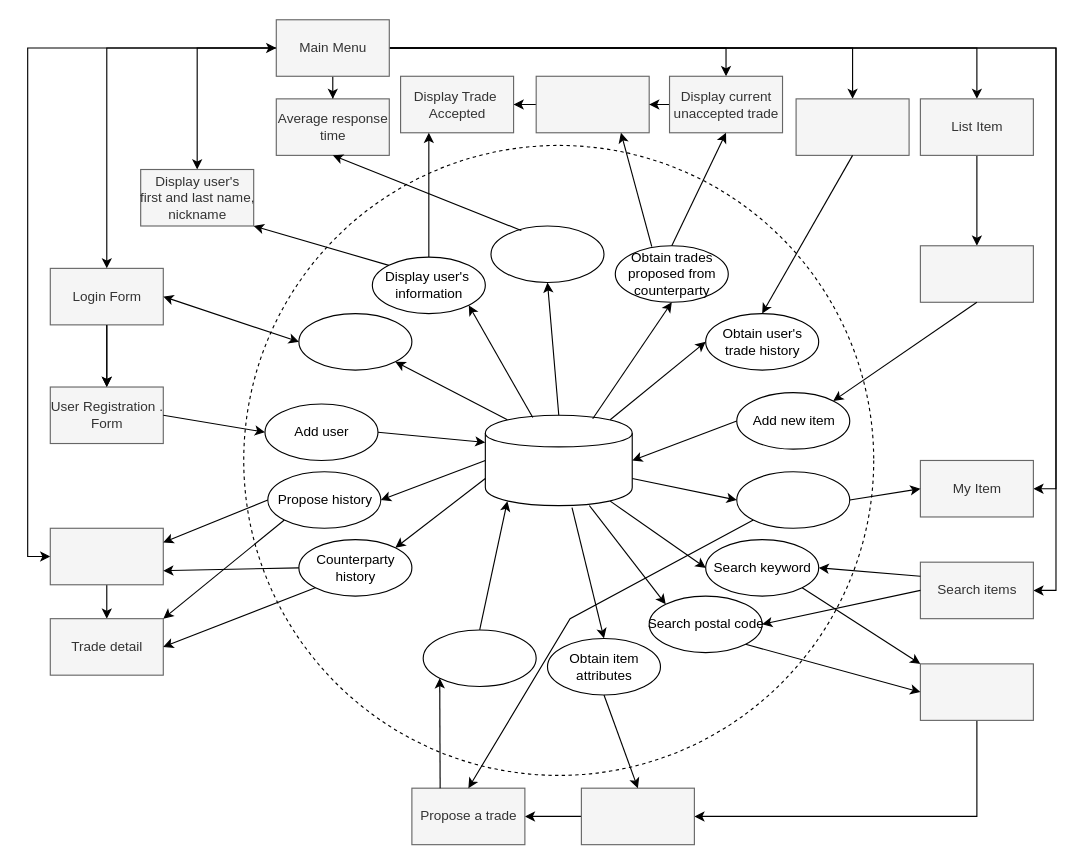
The diagram is 1085 pixels wide and 864 high, and some of its shapes have lost their labels. The centre of each missing label's shape, as x and y in pixels:
"Accept/reject trades list" goes at (592,104).
"Database" goes at (558,460).
"Display current rank" goes at (852,126).
"Log into system" goes at (355,341).
"New Item Listing" goes at (976,273).
"Obtain user's all response time" goes at (547,253).
"Obtain user's listed items" goes at (793,499).
"Propose an item trade" goes at (479,657).
"Search results" goes at (976,691).
"Trade history" goes at (106,556).
"View Item" goes at (637,816).
